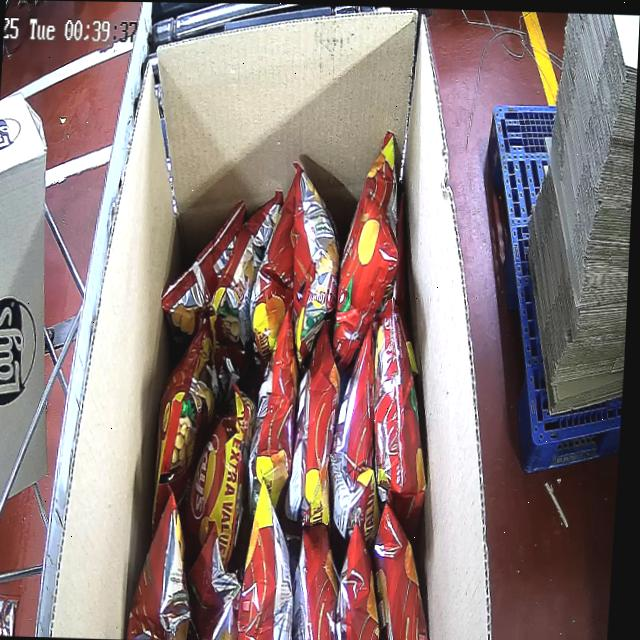MASALA: (124, 123, 464, 640)
